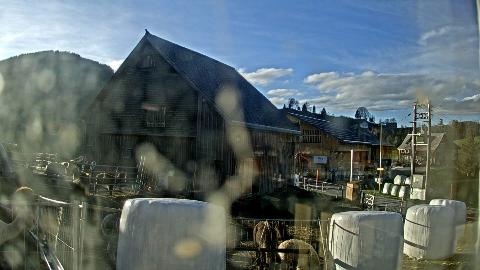car: (349, 170, 363, 180), (418, 160, 426, 166)
sheep: (274, 220, 326, 266), (0, 186, 40, 240), (0, 206, 36, 246), (278, 238, 320, 270), (254, 220, 278, 270), (101, 211, 123, 259), (92, 172, 126, 195), (46, 159, 76, 178), (72, 168, 88, 196)
